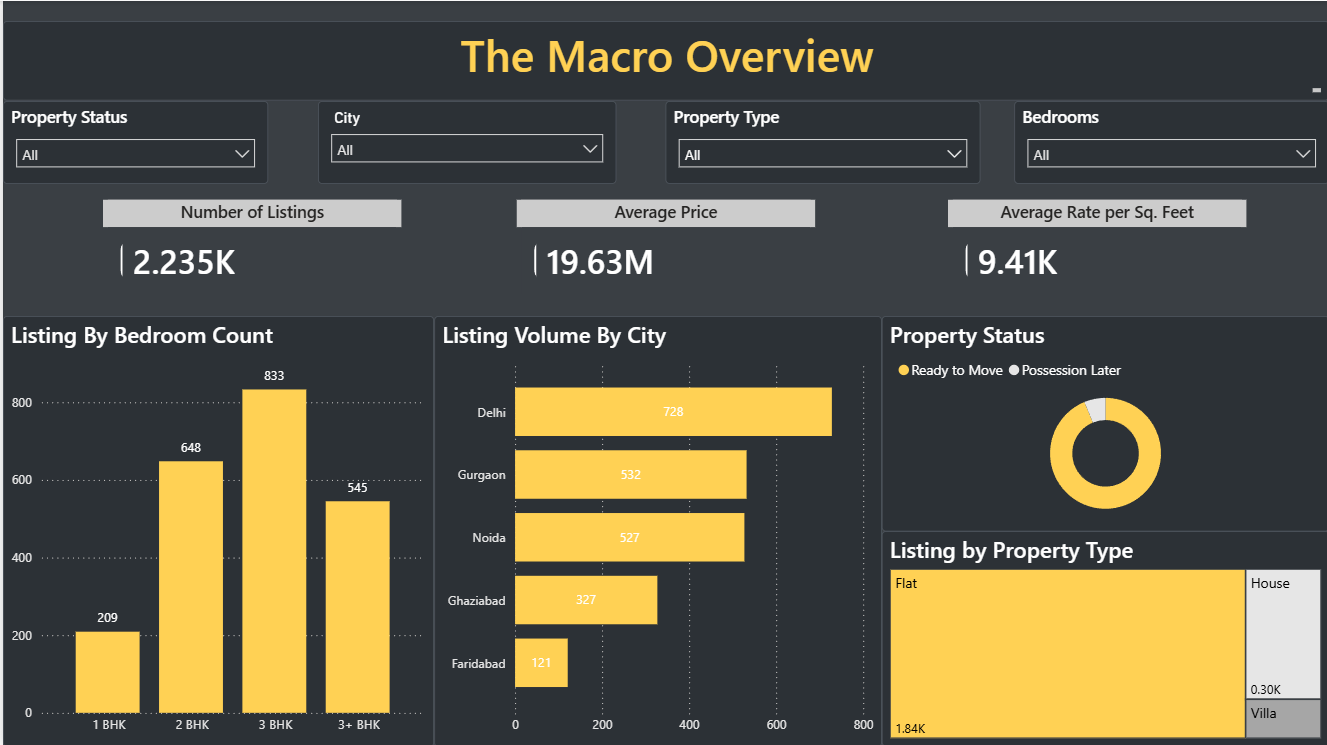

The dashboard page shown, as its layout file describes it:
{"tool":"powerbi","page":{"name":"Page 1","canvas":[1280,720],"ordinal":0},"visuals":[{"type":"clusteredBarChart","title":"Listing Volume By City","fields":{"Category":["residential dim_location.City","residential dim_location.Locality"],"Y":["CountNonNull(residential fact_listings.Listing_ID)"]},"box":[416,304,432,416],"z":0},{"type":"columnChart","title":"Listing By Bedroom Count","fields":{"Y":["CountNonNull(residential fact_listings.Price)"],"Category":["residential dim_property_details.Bedrooms (groups) 2"]},"box":[0,304,416,416],"z":1000},{"type":"treemap","title":"Listing by Property Type","fields":{"Values":["CountNonNull(residential fact_listings.Price)"],"Group":["residential dim_property_details.Property_Type"]},"box":[848,512,432,208],"z":2000},{"type":"slicer","title":"Property Status","fields":{"Values":["residential dim_property_details.Status"]},"box":[0,96,256,80],"z":3000},{"type":"slicer","fields":{"Values":["residential dim_location.City"]},"box":[304,96,288,80],"z":4000},{"type":"slicer","title":"Property Type","fields":{"Values":["residential dim_property_details.Property_Type"]},"box":[640,96,304,80],"z":5000},{"type":"slicer","title":"Bedrooms","fields":{"Values":["residential dim_property_details.Bedrooms (groups) 2"]},"box":[976,96,304,80],"z":6000},{"type":"cardVisual","title":"Number of Listings","fields":{"Data":["CountNonNull(residential fact_listings.Listing_ID)"]},"box":[96,192,288,96],"z":7000},{"type":"cardVisual","title":"Average Price","fields":{"Data":["Avg(residential fact_listings.Price)"]},"box":[496,192,288,96],"z":8000},{"type":"cardVisual","title":"Average Rate per Sq. Feet","fields":{"Data":["Avg(residential fact_listings.Rate_Per_SqFt)"]},"box":[912,192,288,96],"z":9000},{"type":"donutChart","title":"Property Status","fields":{"Category":["residential dim_property_details.Status"],"Y":["CountNonNull(residential fact_listings.Price)"]},"box":[848,304,432,208],"z":10000},{"type":"textbox","title":"The Macro Overview","box":[0,19.6,1280.3,77],"z":10001}]}

Visuals, with their boxes in screenshot pixels (x1, y1, x2, y2), scaled from the page's 1280x720 canvas onto the 1327x745 screenshot:
"Listing Volume By City" clusteredBarChart: <bbox>431, 315, 879, 744</bbox>
"Listing By Bedroom Count" columnChart: <bbox>0, 315, 431, 744</bbox>
"Listing by Property Type" treemap: <bbox>879, 530, 1326, 744</bbox>
"Property Status" slicer: <bbox>0, 99, 265, 182</bbox>
slicer - residential dim_location.City: <bbox>315, 99, 614, 182</bbox>
"Property Type" slicer: <bbox>664, 99, 979, 182</bbox>
"Bedrooms" slicer: <bbox>1012, 99, 1326, 182</bbox>
"Number of Listings" cardVisual: <bbox>100, 199, 398, 298</bbox>
"Average Price" cardVisual: <bbox>514, 199, 813, 298</bbox>
"Average Rate per Sq. Feet" cardVisual: <bbox>945, 199, 1244, 298</bbox>
"Property Status" donutChart: <bbox>879, 315, 1326, 530</bbox>
"The Macro Overview" textbox: <bbox>0, 20, 1326, 100</bbox>
